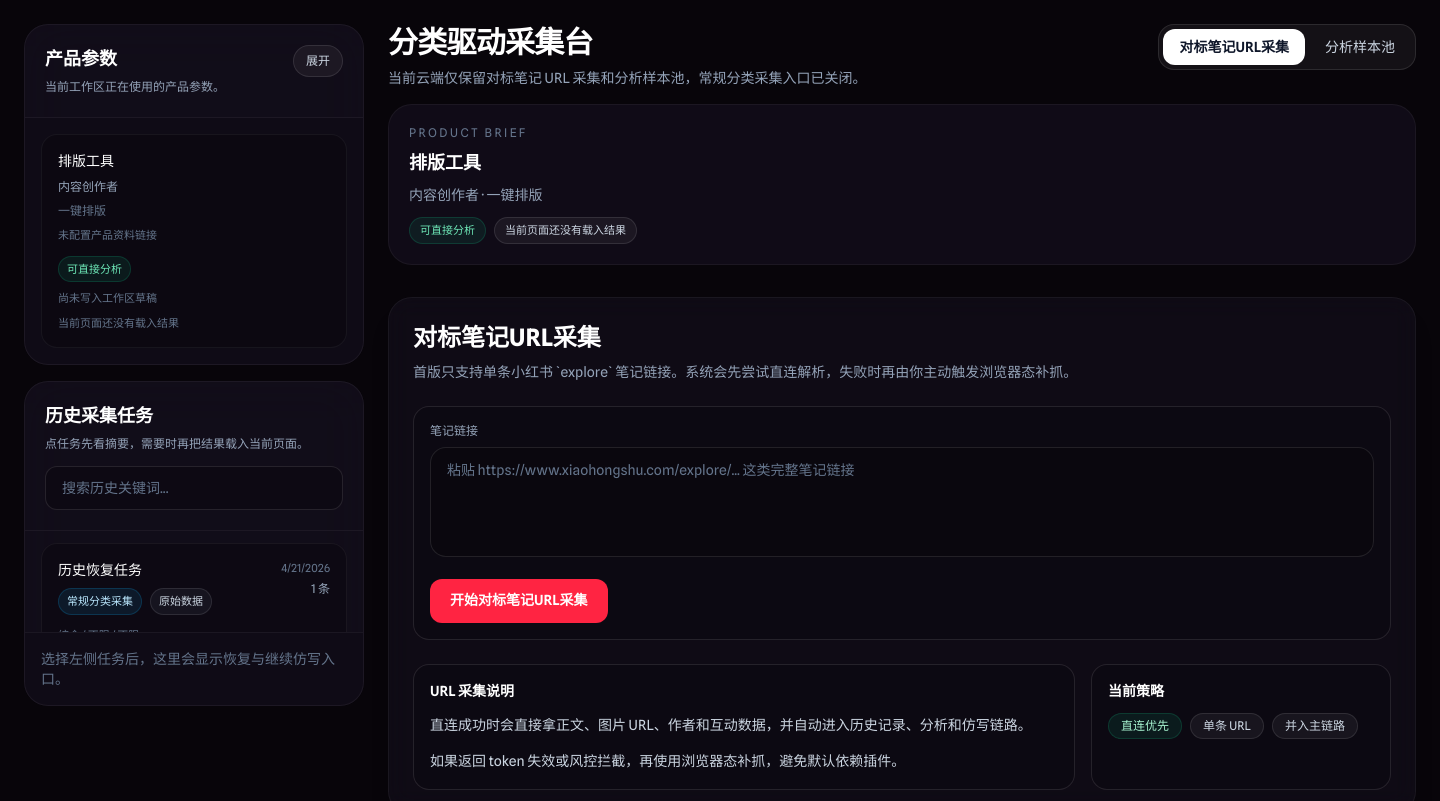
Scenario: ScraperView history persistence flow › restores a history task into an empty workspace
Click the button "历史恢复任务 常规分类采集 原始数据 4/21/2026 1 条 综合 / 不限 / 不限". click: (194, 602)
box: top-left (58, 560), bottom-right (330, 643)
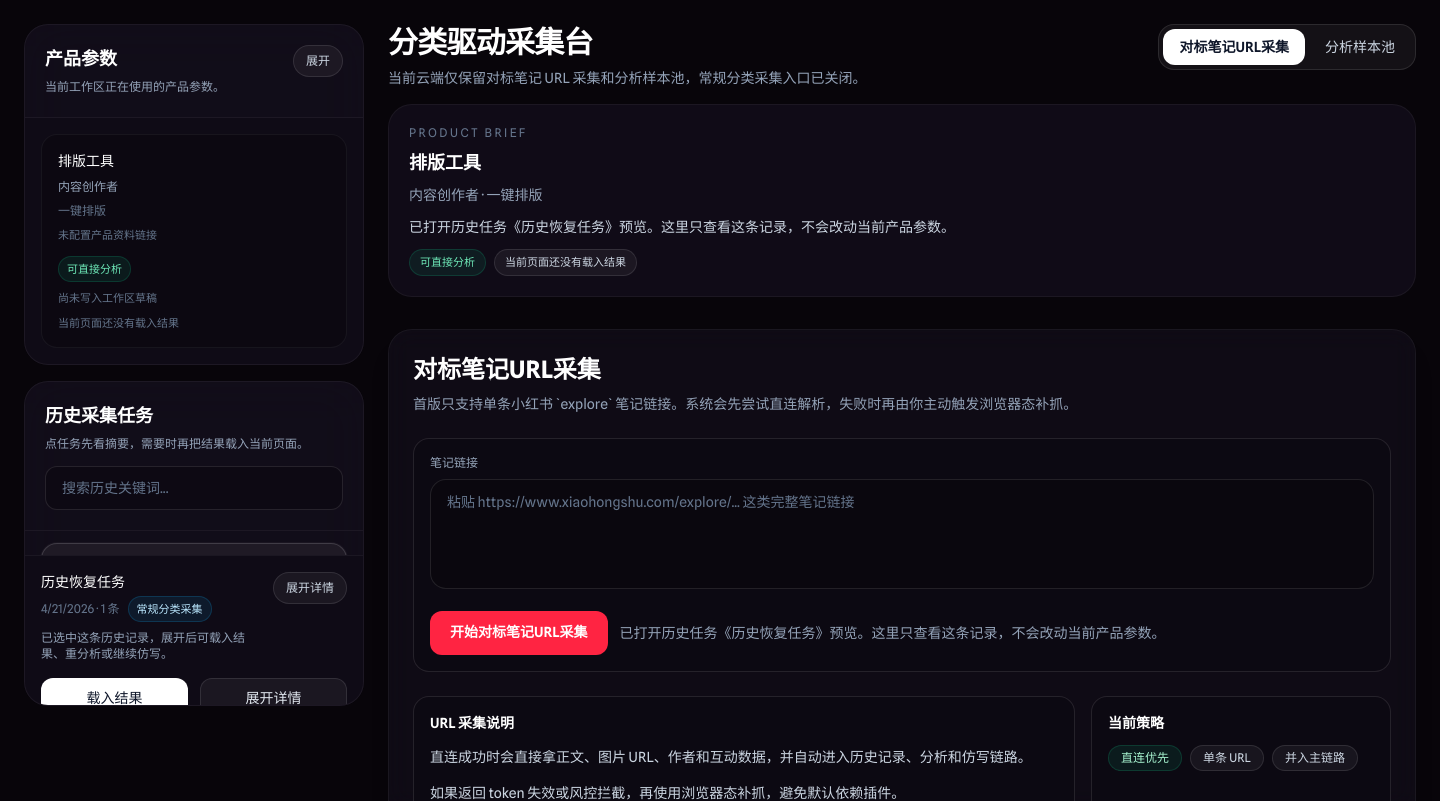
Result: the button "载入结果" is shown at top-left (41, 678), bottom-right (188, 706)
Click the button "载入结果". click: (114, 698)
box: top-left (41, 678), bottom-right (188, 718)
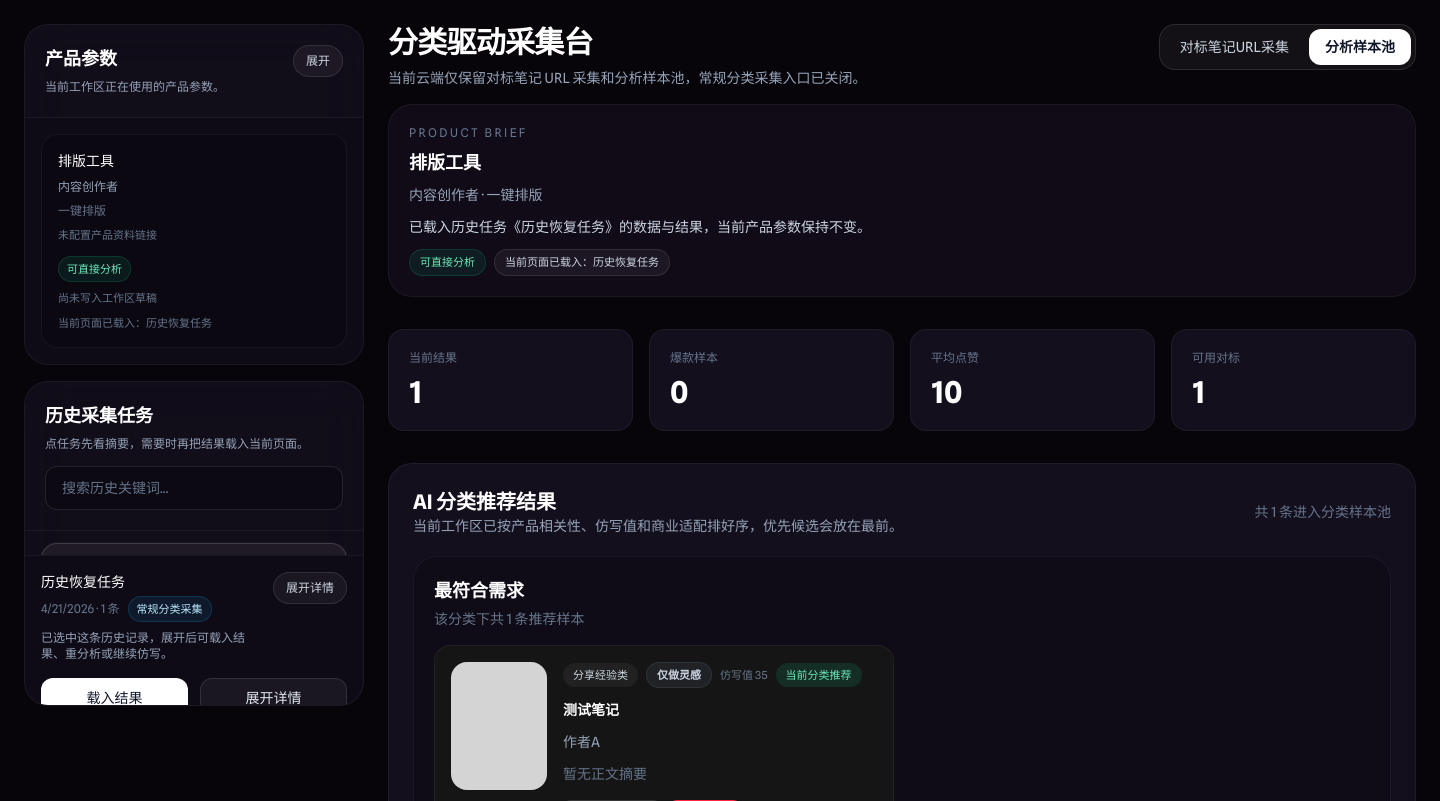
Result: the text "当前页面已载入：历史恢复任务" below "尚未写入工作区草稿" is shown at top-left (58, 316), bottom-right (212, 330)
